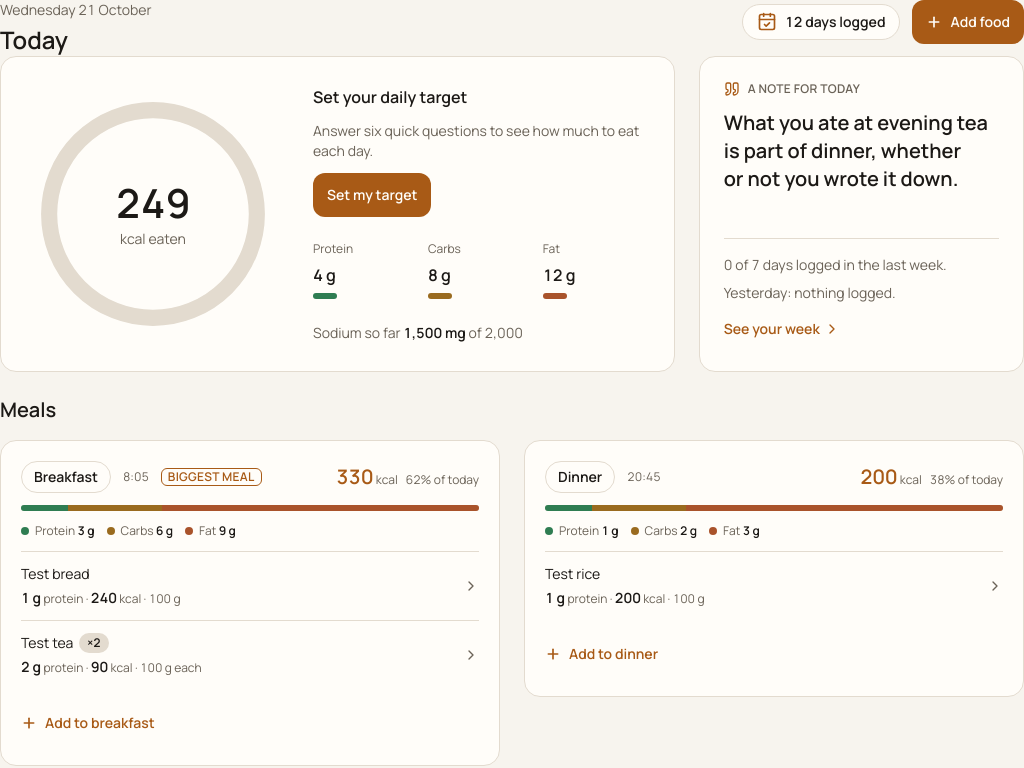
Test: on wide screens › shows the time of each meal and opens the popup from the header, on the meal for the time of day
The width and height of the screenshot is (1024, 768).
What coordinates should you click on to do the following:
click the button "Add food"
I would click on:
 (968, 22)
Its box is [912,0,1023,44].
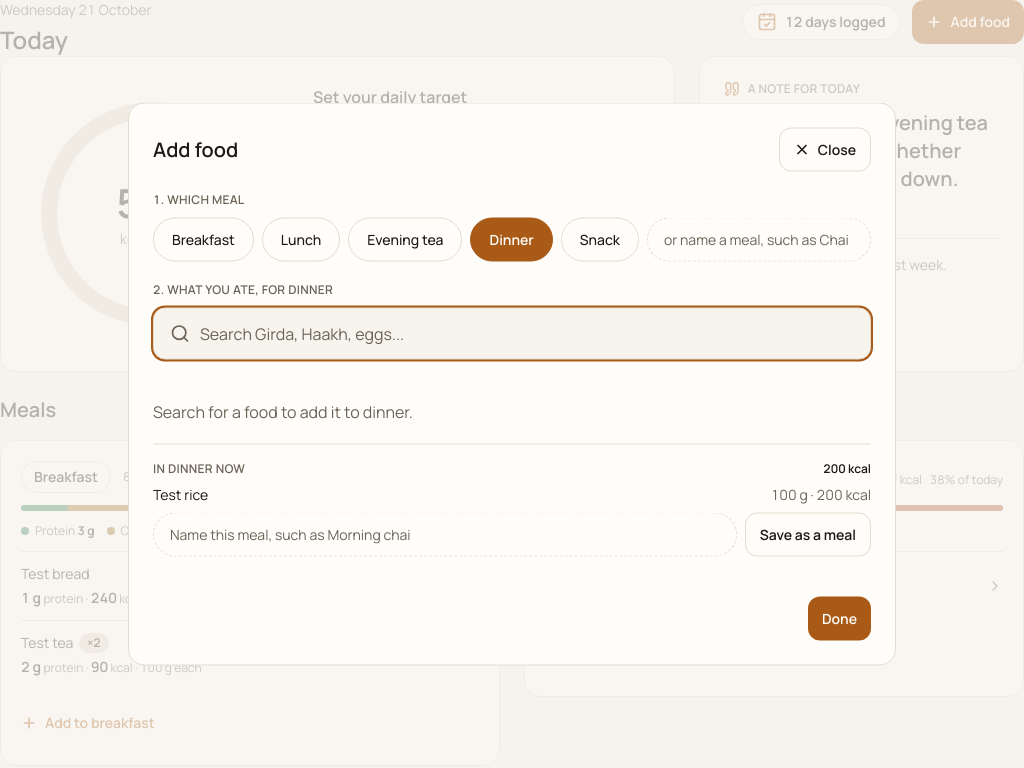
Result: the heading "2. What you ate, for dinner" is shown at [153,280,333,298]
